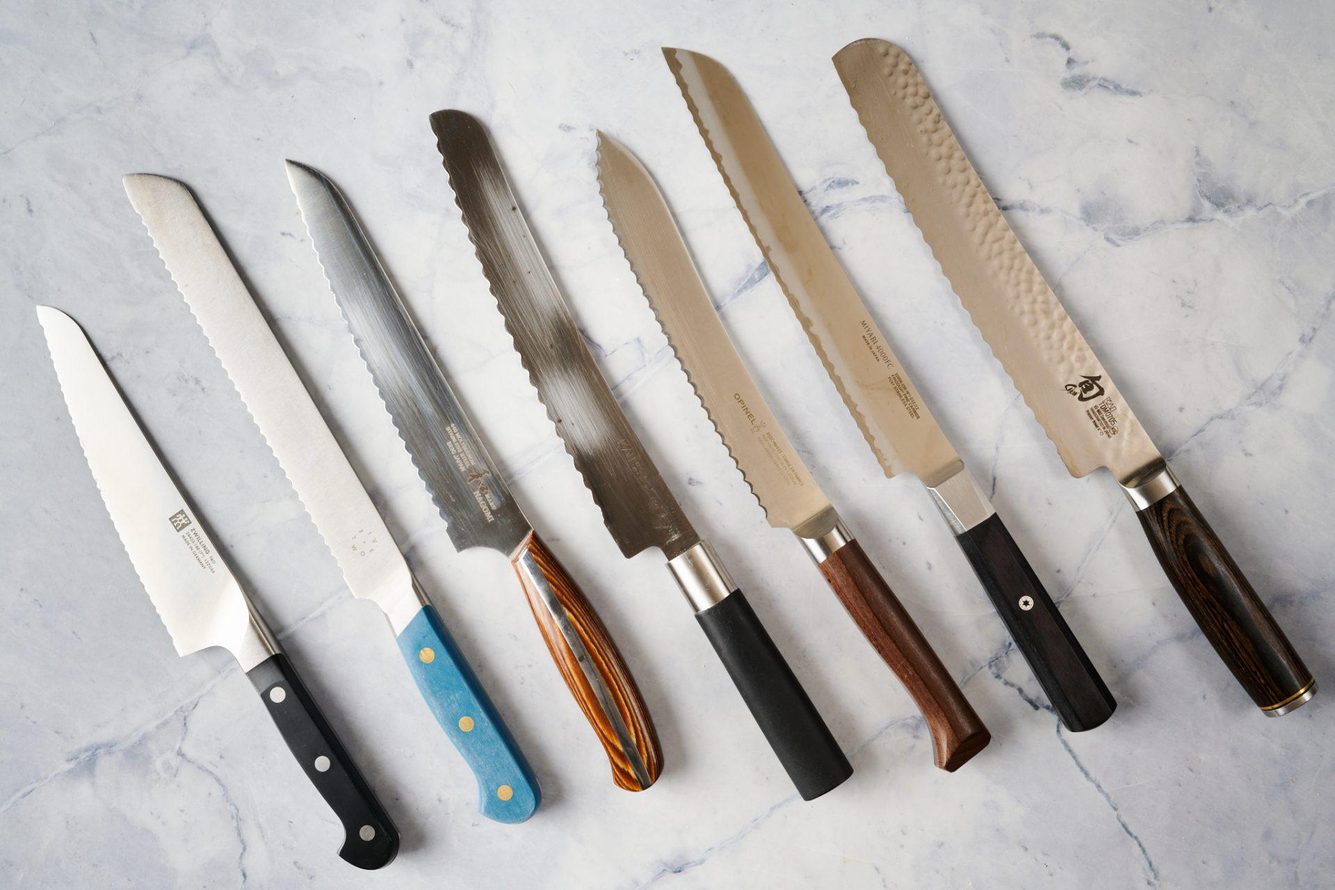Knife: (834, 35, 1316, 718), (664, 49, 1116, 736), (430, 116, 852, 801), (122, 175, 544, 823), (594, 126, 991, 779), (284, 155, 668, 791), (34, 304, 400, 867)
